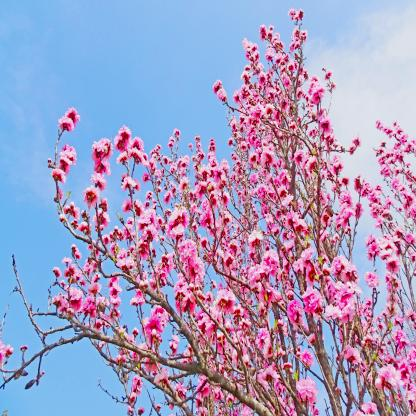Momo: (0, 7, 416, 416)
